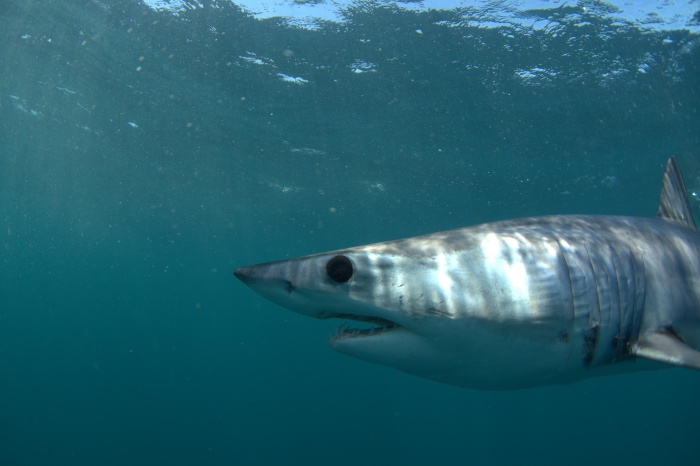Mako: (216, 149, 700, 399)
